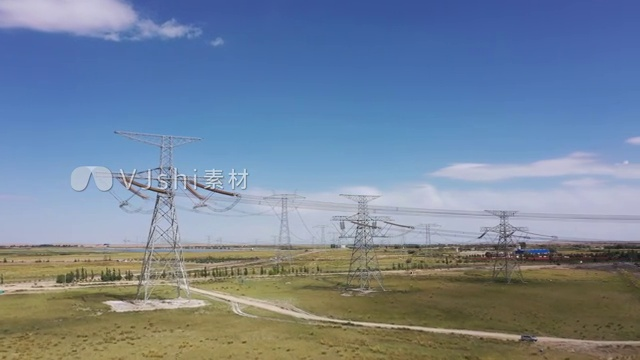tower_body: (108, 121, 206, 310), (336, 187, 390, 294), (260, 183, 312, 269), (482, 205, 532, 287)
tower_foot: (137, 261, 196, 306), (345, 261, 383, 291), (492, 255, 521, 283), (271, 246, 296, 266)
tower_head: (111, 124, 203, 151), (263, 188, 308, 203), (338, 190, 383, 204), (485, 207, 521, 220)
